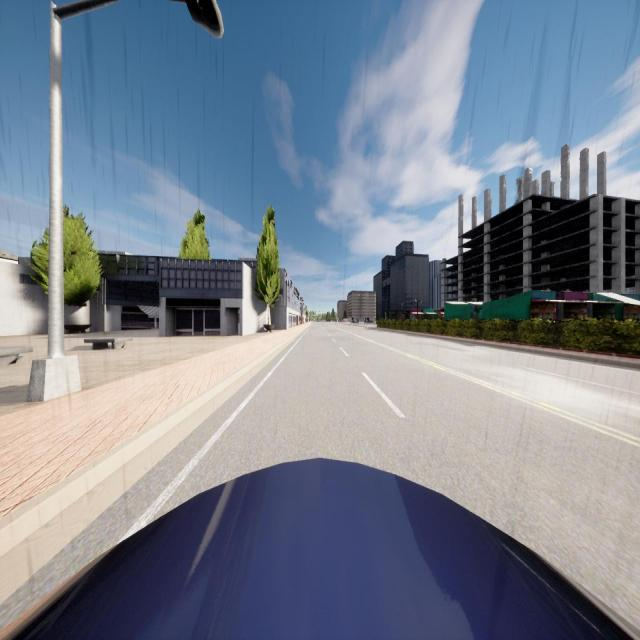Vehicle: (0, 459, 640, 640), (364, 319, 374, 323), (350, 319, 360, 323)
